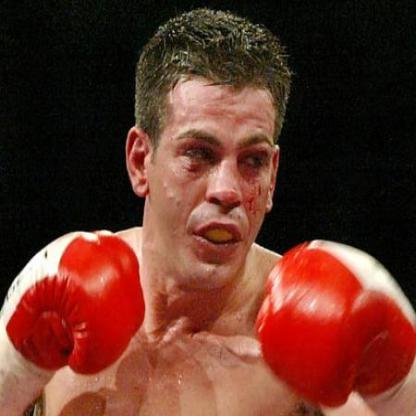face: (148, 30, 281, 292)
